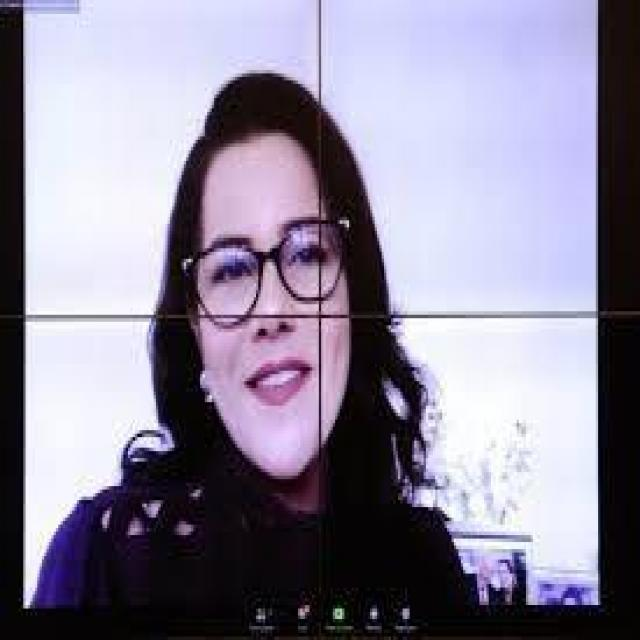person: (49, 38, 463, 580)
